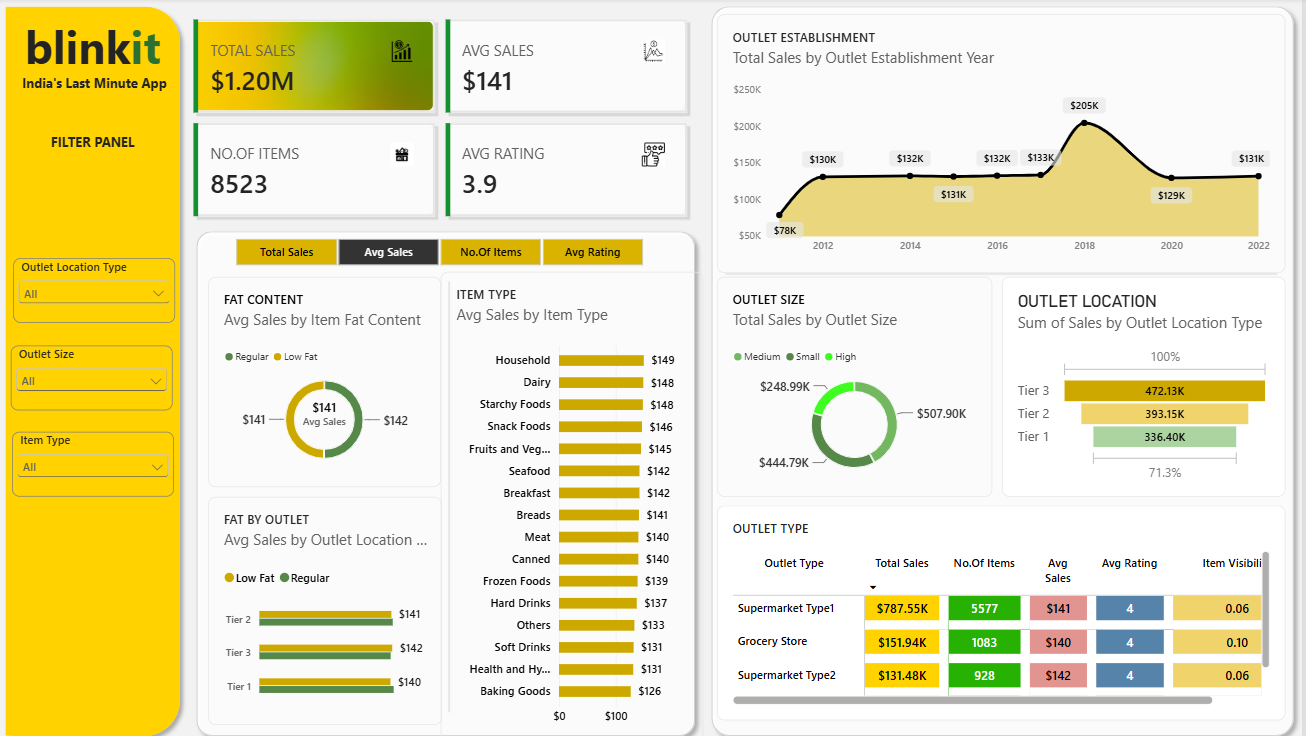

The page's visual inventory and layout, read from the dashboard file:
{"tool":"powerbi","page":{"name":"Page 1","canvas":[1400,800],"ordinal":0},"visuals":[{"type":"shape","box":[0,0,205.1,800.3],"z":0},{"type":"textbox","box":[0,0,205.6,113.9],"z":1000},{"type":"textbox","box":[17.4,63,174.3,68.4],"z":2000},{"type":"cardVisual","fields":{"Data":["BlinkIT Grocery Data.Total Sales","BlinkIT Grocery Data.Avg Sales","BlinkIT Grocery Data.No.Of Items","BlinkIT Grocery Data.Avg Rating"]},"box":[205.1,17.4,540.2,223.9],"z":3000},{"type":"shape","box":[205.1,241.3,552.3,559],"z":4000},{"type":"donutChart","title":"FAT CONTENT","fields":{"Y":["BlinkIT Grocery Data.Avg Sales"],"Category":["BlinkIT Grocery Data.Item Fat Content"]},"box":[226.5,298.9,249.3,225.2],"z":5000},{"type":"slicer","fields":{"Values":["Metrics.Metrics"]},"box":[236.1,255.6,475.9,32.2],"z":6000},{"type":"cardVisual","fields":{"Data":["BlinkIT Grocery Data.Avg Sales"]},"box":[303,407.5,96.5,76.4],"z":7000},{"type":"clusteredBarChart","title":"FAT BY OUTLET","fields":{"Y":["BlinkIT Grocery Data.Avg Sales"],"Category":["BlinkIT Grocery Data.Outlet Location Type"],"Series":["BlinkIT Grocery Data.Item Fat Content"]},"box":[226.4,534.7,250,244.4],"z":8000},{"type":"shape","box":[248,516.1,248,5.4],"z":9000},{"type":"shape","box":[475.9,294.9,12.1,479.9],"z":10000},{"type":"barChart","title":"ITEM TYPE","fields":{"Y":["BlinkIT Grocery Data.Avg Sales"],"Category":["BlinkIT Grocery Data.Item Type"]},"box":[476.4,293.1,281.9,506.9],"z":11000},{"type":"shape","box":[757.4,0,642.1,800.3],"z":12000},{"type":"lineChart","title":"OUTLET ESTABLISHMENT","fields":{"Category":["BlinkIT Grocery Data.Outlet Establishment Year"],"Y":["BlinkIT Grocery Data.Total Sales"]},"box":[772.1,17.4,609.9,277.5],"z":14000},{"type":"shape","box":[772.1,286.9,609.9,12.1],"z":15000},{"type":"donutChart","title":"OUTLET SIZE","fields":{"Y":["BlinkIT Grocery Data.Total Sales"],"Category":["BlinkIT Grocery Data.Outlet Size"]},"box":[772.1,298.9,294.9,235.9],"z":16000},{"type":"funnel","title":"OUTLET LOCATION","fields":{"Category":["BlinkIT Grocery Data.Outlet Location Type"],"Y":["Sum(BlinkIT Grocery Data.Sales)"]},"box":[1077.8,298.9,304.3,235.9],"z":17000},{"type":"pivotTable","title":"OUTLET TYPE","fields":{"Rows":["BlinkIT Grocery Data.Outlet Type"],"Values":["BlinkIT Grocery Data.Total Sales","BlinkIT Grocery Data.No.Of Items","BlinkIT Grocery Data.Avg Sales","BlinkIT Grocery Data.Avg Rating","Avg(BlinkIT Grocery Data.Item Visibility)"]},"box":[772.1,544.2,609.9,230.6],"z":17001},{"type":"slicer","fields":{"Values":["BlinkIT Grocery Data.Outlet Location Type"]},"box":[18.1,279.2,173.6,69.4],"z":17002},{"type":"slicer","fields":{"Values":["BlinkIT Grocery Data.Outlet Size"]},"box":[15.3,372.2,173.6,69.4],"z":17003},{"type":"slicer","fields":{"Values":["BlinkIT Grocery Data.Item Type"]},"box":[16.7,465.3,173.6,69.4],"z":17004},{"type":"textbox","box":[0,144.4,205.6,134.7],"z":17005}]}

Visuals, with their boxes in screenshot pixels (x1, y1, x2, y2), scaled from the page's 1400x800 canvas onto the 1306x736 screenshot:
shape: [0, 0, 191, 735]
textbox: [0, 0, 192, 105]
textbox: [16, 58, 179, 121]
cardVisual - BlinkIT Grocery Data.Total Sales x BlinkIT Grocery Data.Avg Sales: [191, 16, 695, 222]
shape: [191, 222, 707, 735]
"FAT CONTENT" donutChart: [211, 275, 444, 482]
slicer - Metrics.Metrics: [220, 235, 664, 265]
cardVisual - BlinkIT Grocery Data.Avg Sales: [283, 375, 373, 445]
"FAT BY OUTLET" clusteredBarChart: [211, 492, 444, 717]
shape: [231, 475, 463, 480]
shape: [444, 271, 455, 713]
"ITEM TYPE" barChart: [444, 270, 707, 735]
shape: [707, 0, 1305, 735]
"OUTLET ESTABLISHMENT" lineChart: [720, 16, 1289, 271]
shape: [720, 264, 1289, 275]
"OUTLET SIZE" donutChart: [720, 275, 995, 492]
"OUTLET LOCATION" funnel: [1005, 275, 1289, 492]
"OUTLET TYPE" pivotTable: [720, 501, 1289, 713]
slicer - BlinkIT Grocery Data.Outlet Location Type: [17, 257, 179, 321]
slicer - BlinkIT Grocery Data.Outlet Size: [14, 342, 176, 406]
slicer - BlinkIT Grocery Data.Item Type: [16, 428, 178, 492]
textbox: [0, 133, 192, 257]
